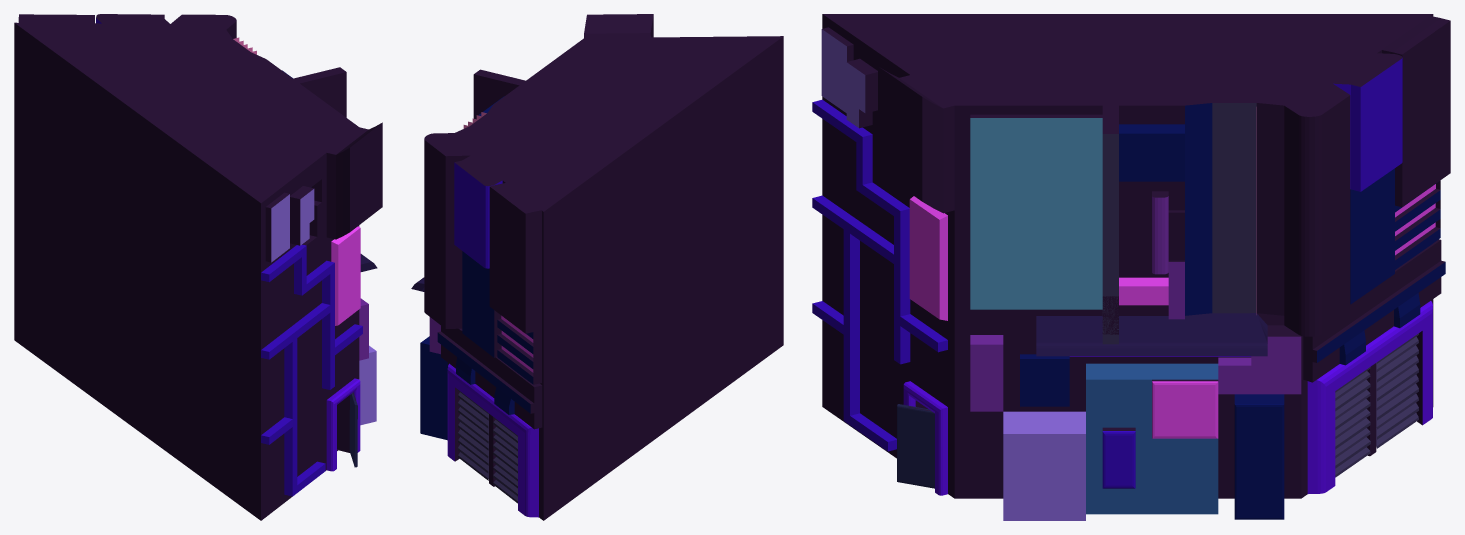
File: building_001.fbx
3 views of the same model, side by side, from view 1: azimuth 30°, elevation 25°; view 2: azimuth 150°, elevation 25°; view 3: azimuth 270°, elevation 25° (orthographic). The views are drawn at different scales.
Visible parts, largest first — view 1: Cube, Cube.001; view 2: Cube; view 3: Cube, Cube.001.
Boxes of the visible parts, x1=… form: Cube: x1=14, y1=14, x2=382, y2=520; Cube.001: x1=349, y1=392, x2=357, y2=467; Cube: x1=411, y1=14, x2=783, y2=520; Cube: x1=812, y1=14, x2=1450, y2=520; Cube.001: x1=897, y1=404, x2=934, y2=488.
Bounding box in the file's own units: 1338 × 2083 × 2943.
